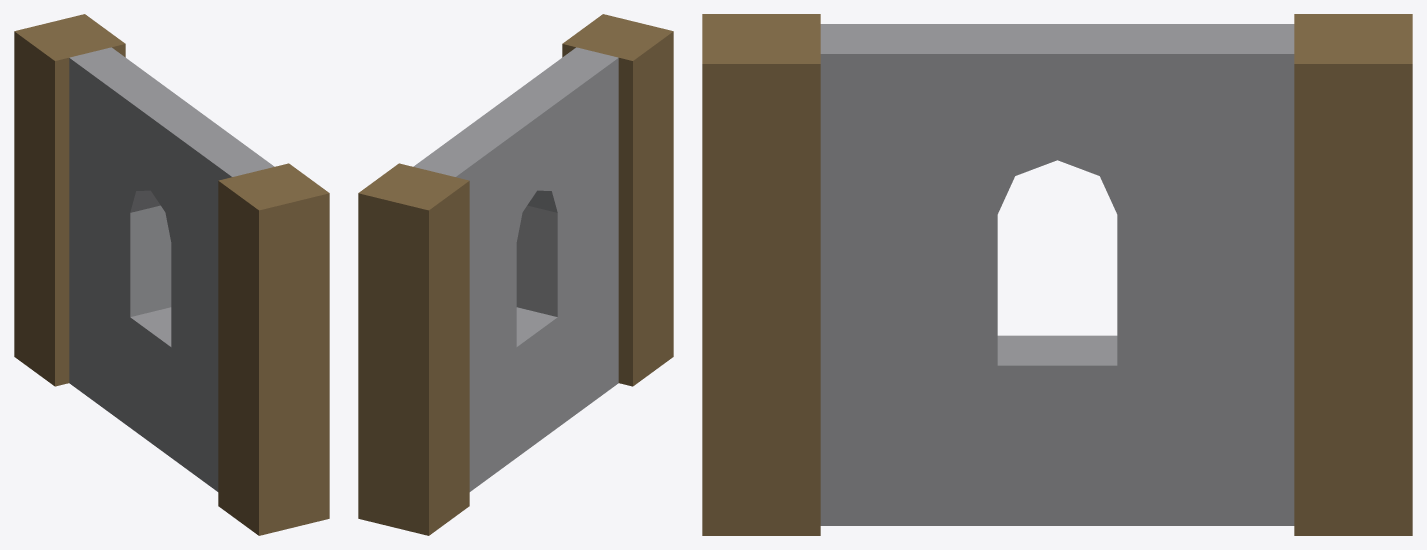
Rendered from Wood_Window_Round_01.obj.
The picture shows the model from 3 angles, left to right: view 1: azimuth 30°, elevation 25°; view 2: azimuth 150°, elevation 25°; view 3: azimuth 270°, elevation 25°; orthographic projection. The views are drawn at different scales.
Visible parts, largest first — view 1: Mesh1_Wood_Window_Round_Model; view 2: Mesh1_Wood_Window_Round_Model; view 3: Mesh1_Wood_Window_Round_Model.
Boxes of the visible parts, bbox=[...] form: Mesh1_Wood_Window_Round_Model: bbox=[14, 14, 329, 535]; Mesh1_Wood_Window_Round_Model: bbox=[358, 14, 673, 535]; Mesh1_Wood_Window_Round_Model: bbox=[702, 14, 1412, 535].
Size of the model in its own units: 0.5 by 2.2 by 3.
